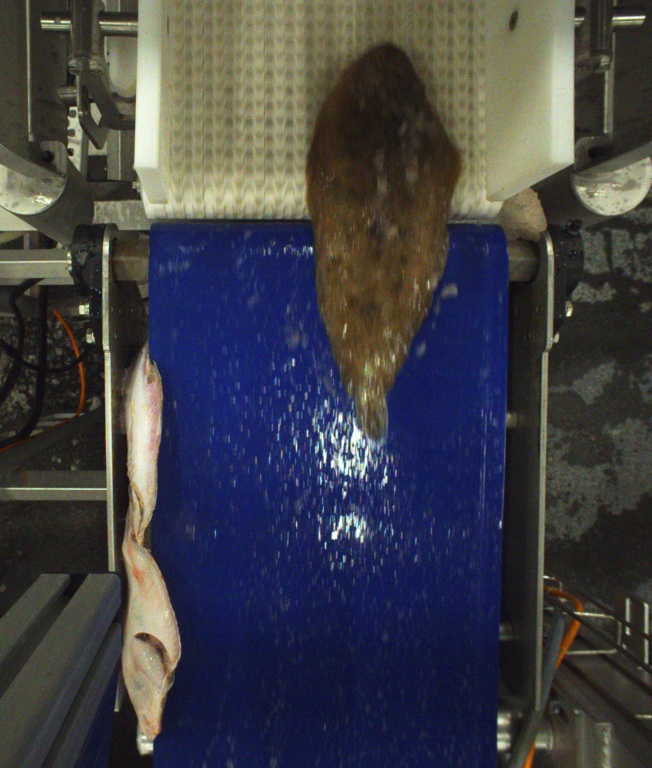SOL: (302, 41, 461, 440)
